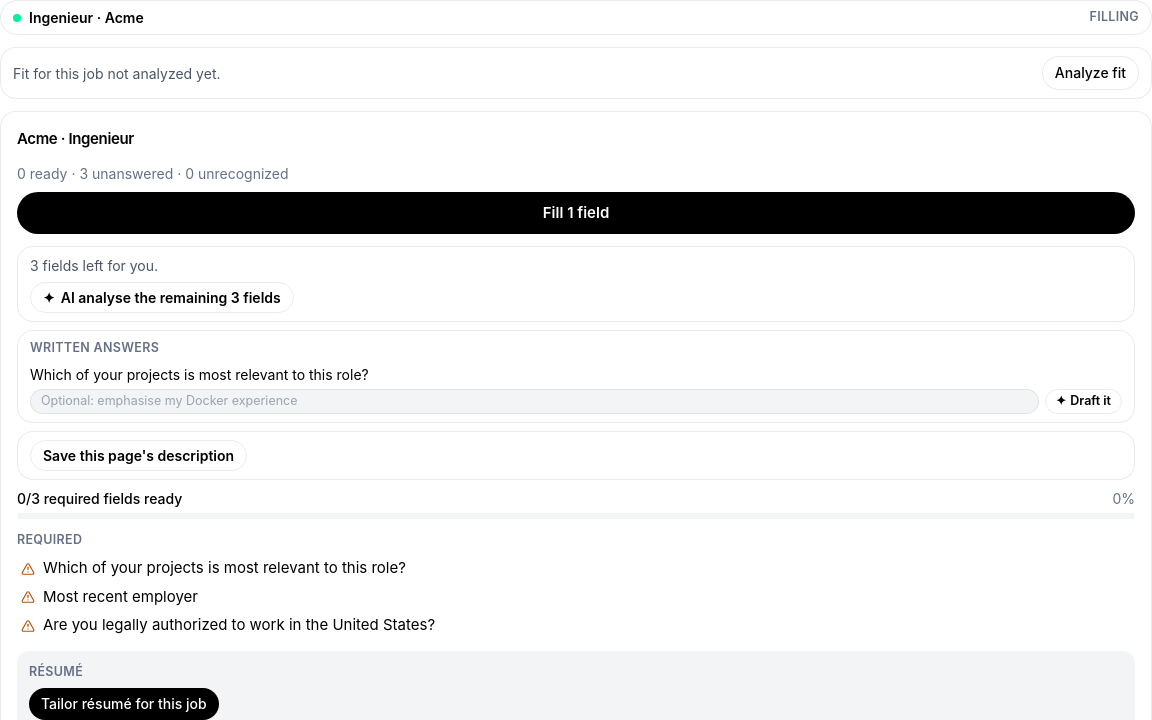
Test: what comes back › shows each suggestion with the reason it rests on
The width and height of the screenshot is (1152, 720).
Check: the text "Ingenieur · Acme" is shown, box [29,9,144,26]
Click the button "✦ AI analyse the remaining 3 fields" at [162, 298], box [30,282,294,313]
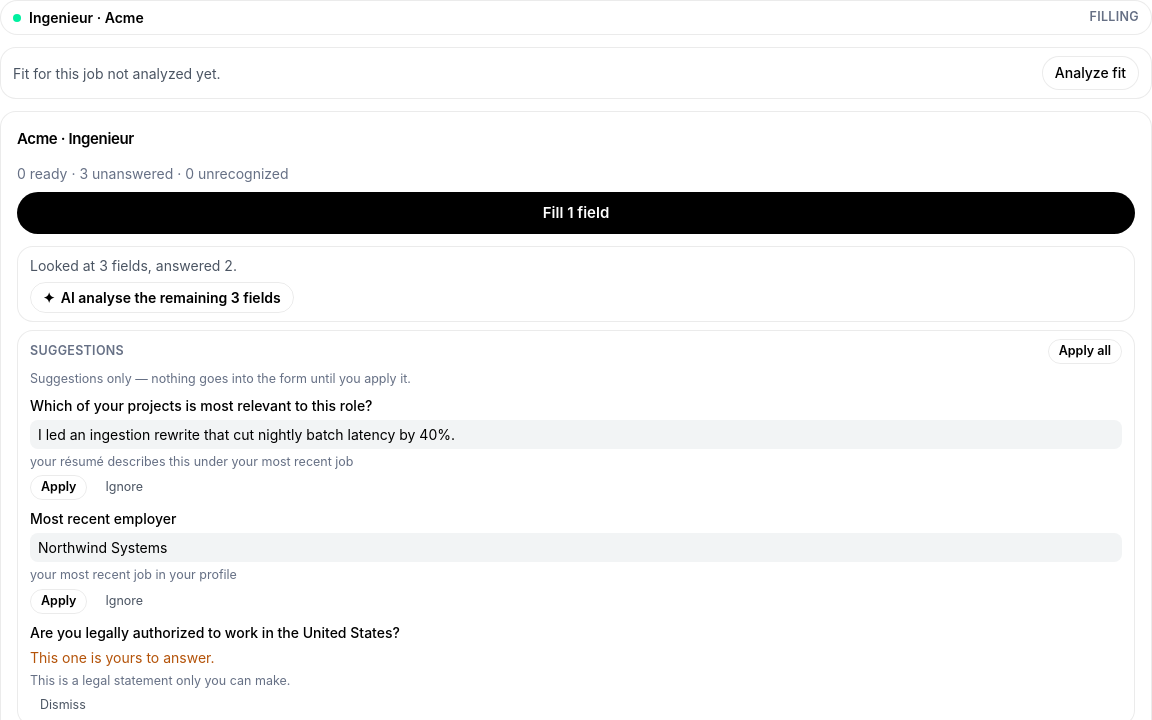
Check: the text "Northwind Systems" is shown, box [30,533,1122,562]
Check: the text "your most recent job in your profile" is shown, box [30,567,237,582]
Check: the text "your résumé describes this under your most recent job" is shown, box [30,454,354,468]
